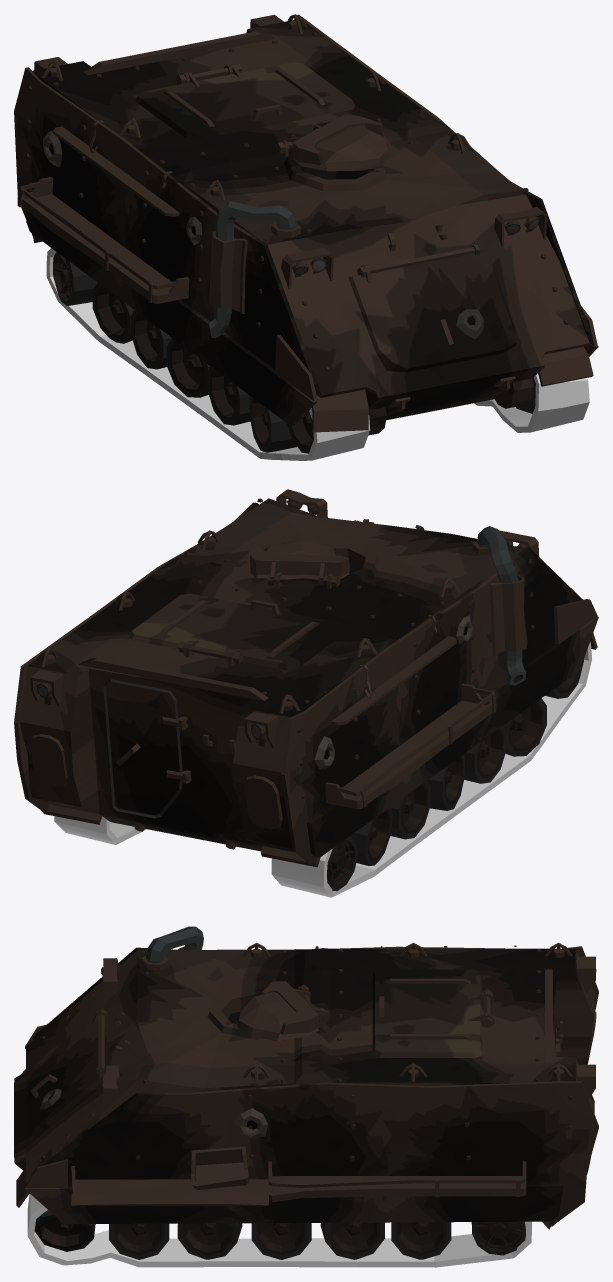
Rendered from SM_Veh_APC_01_Destroyed.fbx.
3 views of the same model, one above another, from view 1: azimuth 30°, elevation 25°; view 2: azimuth 150°, elevation 25°; view 3: azimuth 270°, elevation 25° (orthographic). The views are drawn at different scales.
Parts seen in each view (by area): view 1: SM_Veh_APC_01_Destroyed; view 2: SM_Veh_APC_01_Destroyed; view 3: SM_Veh_APC_01_Destroyed.
Part boxes in pixels (bbox=[...]): SM_Veh_APC_01_Destroyed: bbox=[14, 14, 598, 460]; SM_Veh_APC_01_Destroyed: bbox=[14, 489, 598, 897]; SM_Veh_APC_01_Destroyed: bbox=[14, 926, 598, 1267].
Size of the model in its own units: 335 by 220 by 526.
